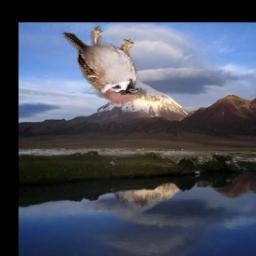Sparrow: (59, 26, 141, 105)
